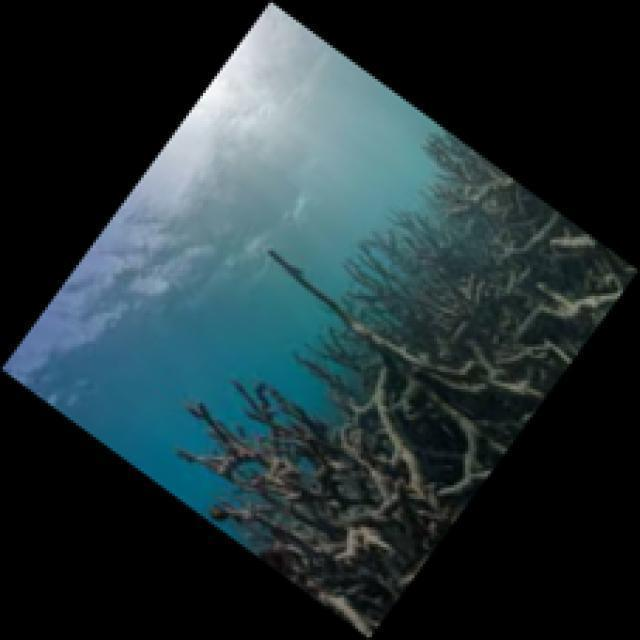Dead Coral: (195, 114, 609, 589)
